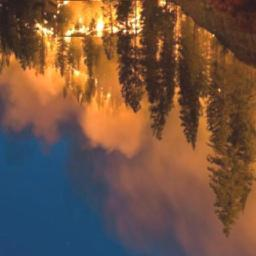Heavy smoke: (115, 104, 256, 256), (2, 69, 169, 163)
Medium fire: (23, 1, 234, 89)
